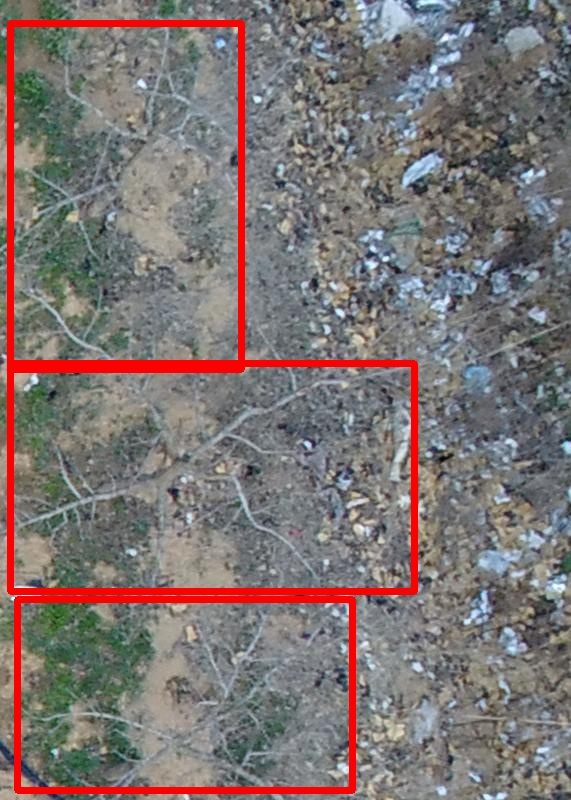apple: (10, 363, 414, 591), (10, 23, 241, 369), (17, 599, 352, 790)
